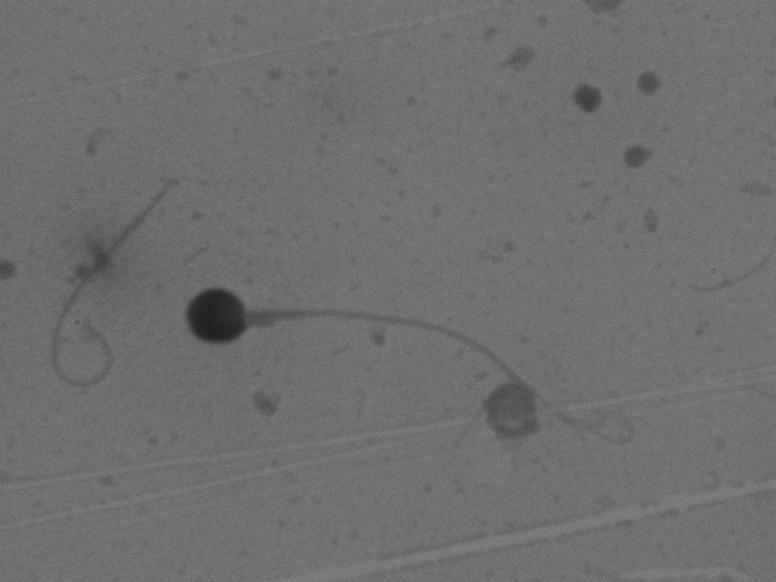Abnormal: (162, 215, 627, 494)
